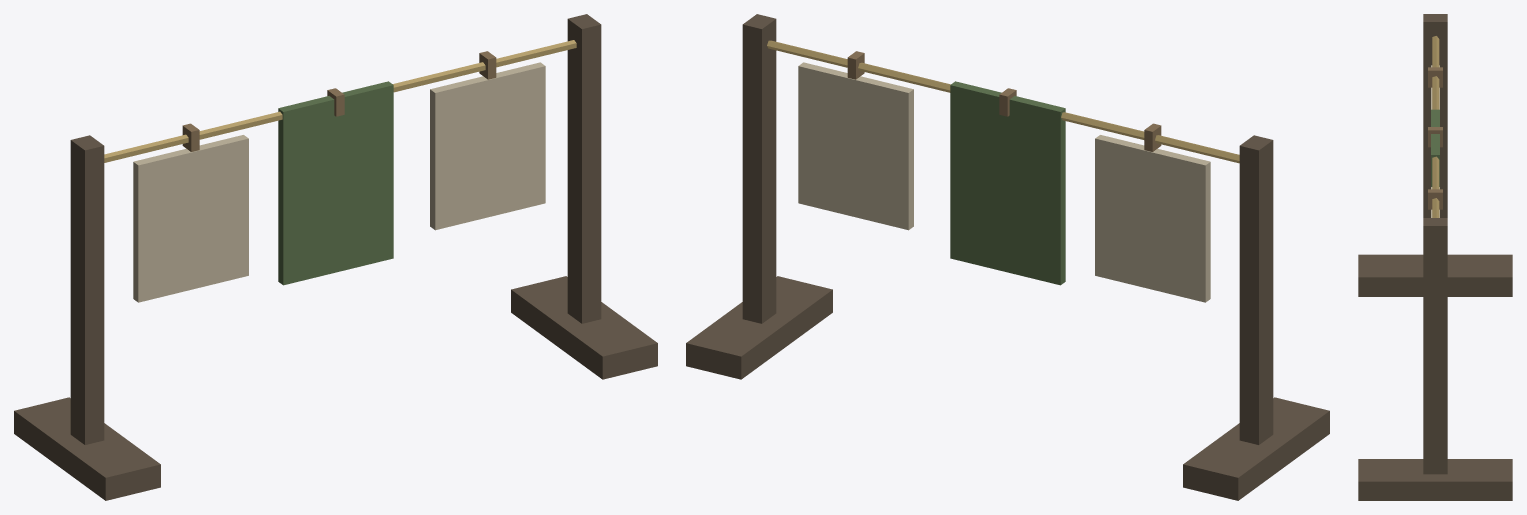
The model's file is Decor_DryingRack.fbx.
The picture shows the model from 3 angles, left to right: view 1: azimuth 30°, elevation 25°; view 2: azimuth 150°, elevation 25°; view 3: azimuth 270°, elevation 25°; orthographic projection. The views are drawn at different scales.
Visible parts, largest first — view 1: Decor_DryingRack; view 2: Decor_DryingRack; view 3: Decor_DryingRack.
Boxes of the visible parts, x1,y1,x2,y2 form: Decor_DryingRack: (14,14,657,500); Decor_DryingRack: (686,14,1329,500); Decor_DryingRack: (1358,14,1512,500).
Bounding box in the file's own units: 4 × 2.2 × 1.15.
